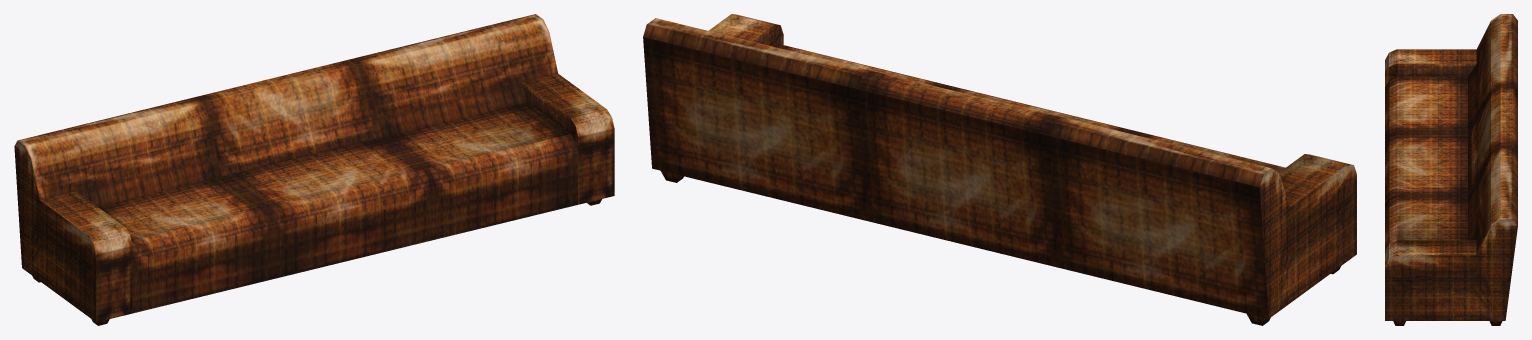
Rendered from slum_couch02.fbx.
3 views of the same model, side by side, from view 1: azimuth 30°, elevation 25°; view 2: azimuth 150°, elevation 25°; view 3: azimuth 270°, elevation 25° (orthographic). The views are drawn at different scales.
Parts seen in each view (by area): view 1: mesh_0; view 2: mesh_0; view 3: mesh_0.
Part boxes in pixels (x1=…): mesh_0: x1=14, y1=14, x2=614, y2=325; mesh_0: x1=643, y1=14, x2=1356, y2=325; mesh_0: x1=1385, y1=14, x2=1517, y2=325.
Size of the model in its own units: 401 by 99.5 by 109.
Materials: 1 (1 with a texture image).
